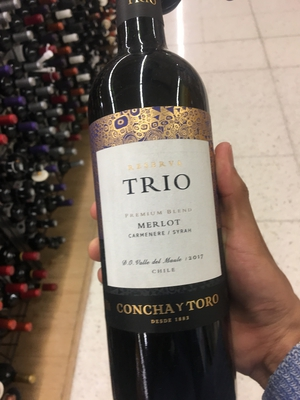trio merlot: (75, 25, 233, 396)
